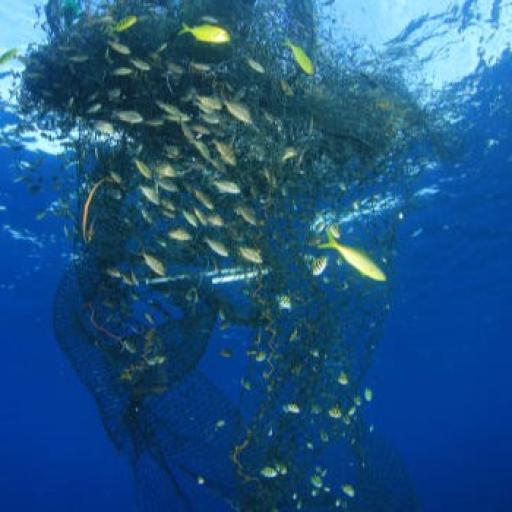net: (26, 0, 456, 512)
